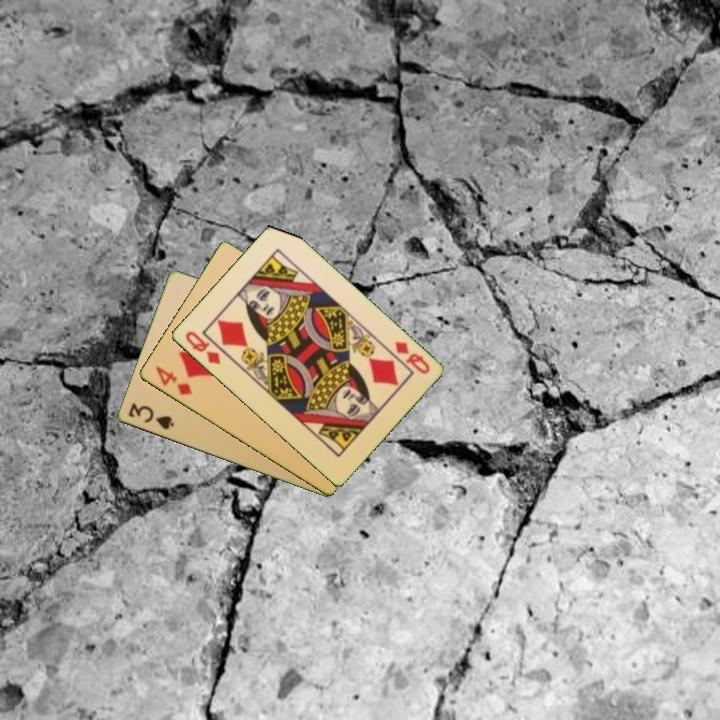3s: (124, 400, 177, 433)
4d: (151, 362, 195, 398)
Qd: (181, 327, 223, 367), (391, 338, 433, 377)
